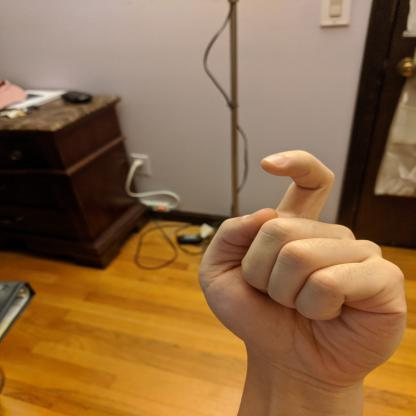X: (193, 145, 411, 385)
